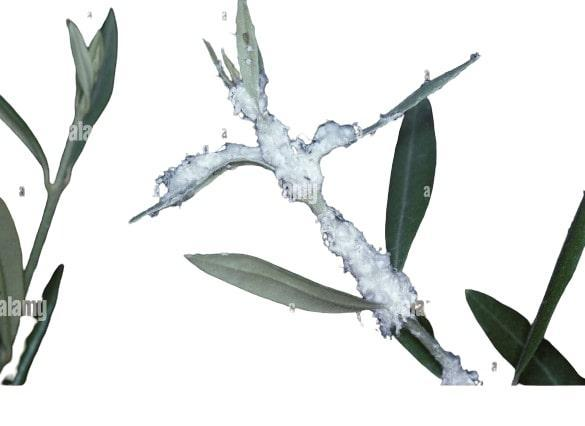Psyllid: (228, 80, 355, 228), (328, 234, 425, 340), (148, 128, 249, 198)
